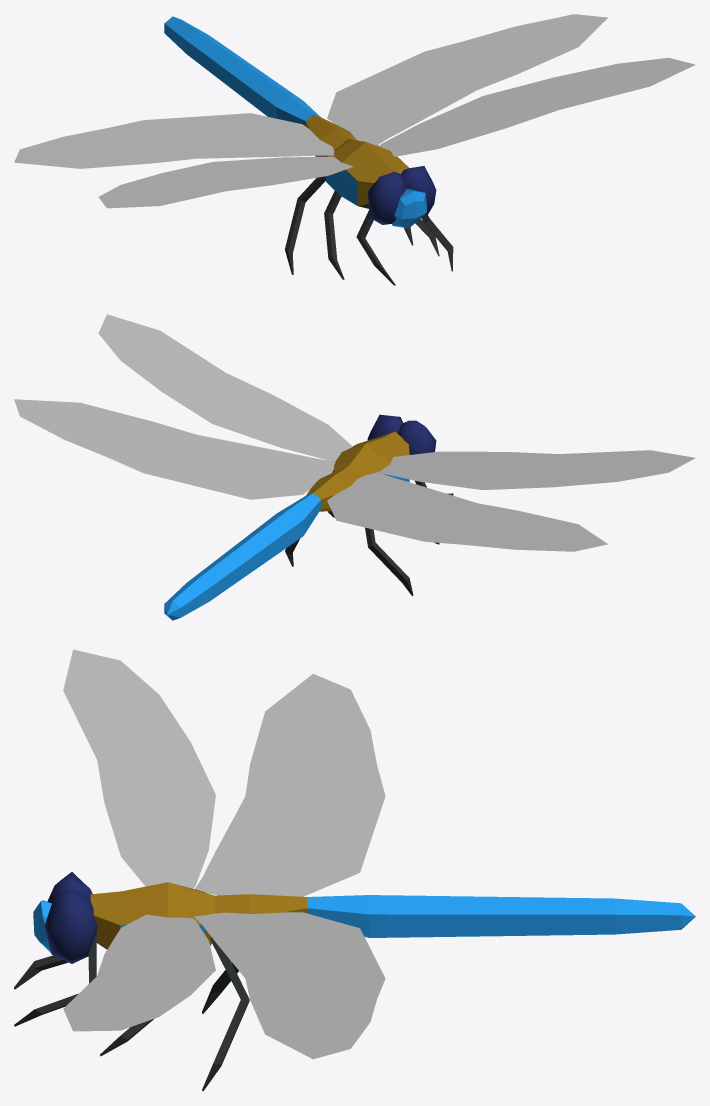
File: prop_pz_dragonfly.glb
The picture shows the model from 3 angles, top to bottom: view 1: azimuth 30°, elevation 25°; view 2: azimuth 150°, elevation 25°; view 3: azimuth 270°, elevation 25°; orthographic projection. The views are drawn at different scales.
Visible parts, largest first — view 1: Geo_Dragonfly; view 2: Geo_Dragonfly; view 3: Geo_Dragonfly.
Boxes of the visible parts, x1,y1,x2,y2 form: Geo_Dragonfly: (14, 14, 695, 285); Geo_Dragonfly: (14, 314, 695, 620); Geo_Dragonfly: (14, 649, 695, 1091).
Bounding box in the file's own units: 13.33 × 3.42 × 9.96.
2 materials, 1 textured.
